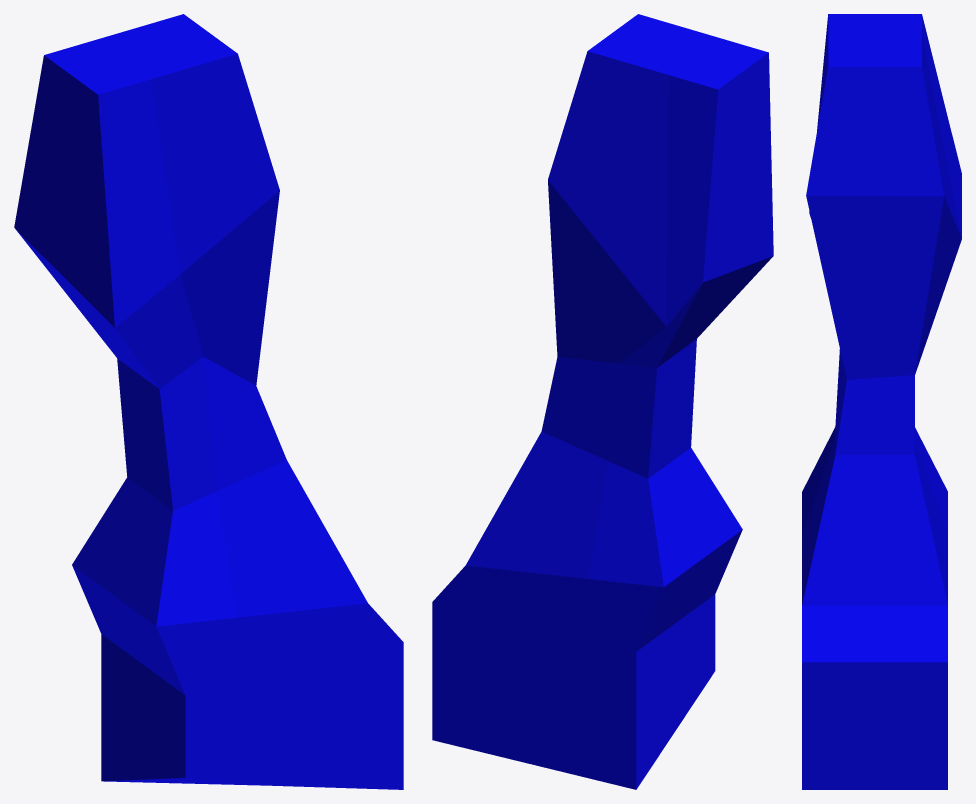
The model's file is Randon_Crystal_03.fbx.
3 renders of one model, left to right at view 1: azimuth 30°, elevation 25°; view 2: azimuth 150°, elevation 25°; view 3: azimuth 270°, elevation 25°, orthographic. The views are drawn at different scales.
Parts seen in each view (by area): view 1: Randon_Crystal_03; view 2: Randon_Crystal_03; view 3: Randon_Crystal_03.
Boxes of the visible parts, x1,y1,x2,y2 form: Randon_Crystal_03: (14,14,403,789); Randon_Crystal_03: (432,14,773,789); Randon_Crystal_03: (802,14,961,789).
Size of the model in its own units: 2.34 by 5.72 by 1.26.
